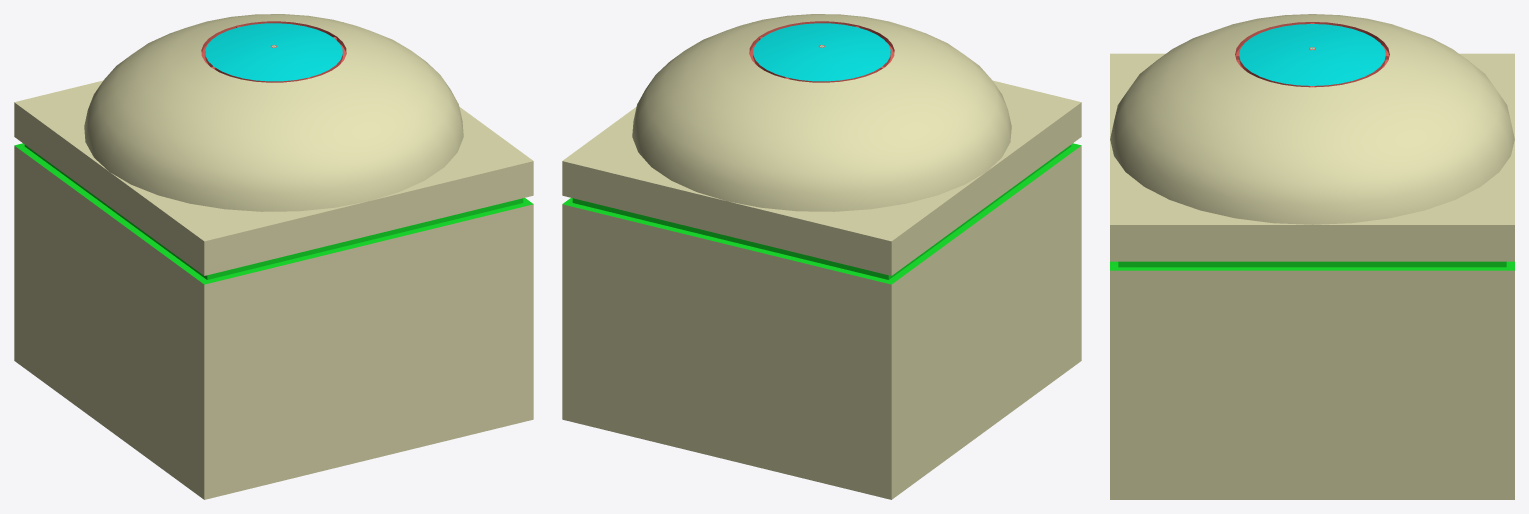
Rendered from RoomTemplate.fbx.
The picture shows the model from 3 angles, left to right: view 1: azimuth 30°, elevation 25°; view 2: azimuth 150°, elevation 25°; view 3: azimuth 270°, elevation 25°; orthographic projection. The views are drawn at different scales.
Visible parts, largest first — view 1: Walls, Roof; view 2: Walls, Roof; view 3: Walls, Roof.
Boxes of the visible parts, x1,y1,x2,y2 form: Walls: (14,102,533,499); Roof: (14,14,532,241); Walls: (562,102,1081,499); Roof: (563,14,1081,241); Walls: (1110,225,1514,499); Roof: (1110,14,1514,224).
Bounding box in the file's own units: 400 × 399 × 400.
